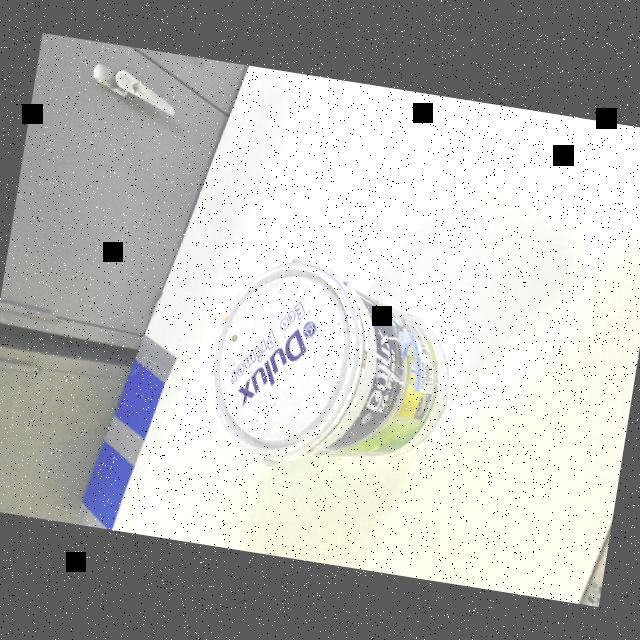paint_bucket: (187, 242, 473, 498)
